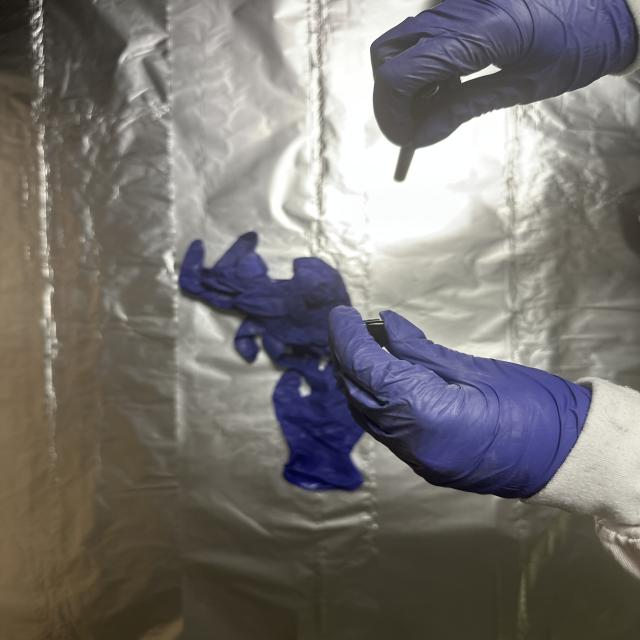gloves_contaminated: (330, 307, 595, 498), (371, 0, 637, 147)
